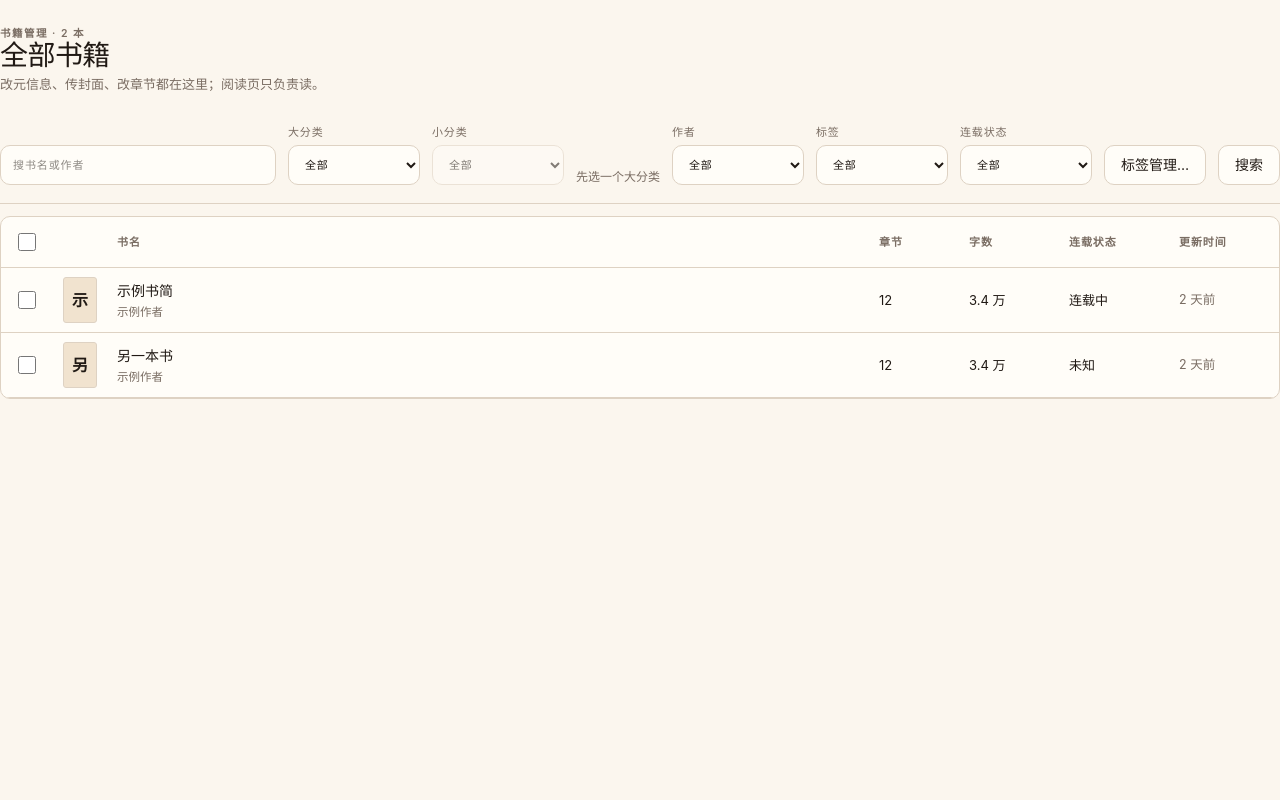
Scenario: 书籍管理列表 › 作者留空在本地就挡下，不打一次注定 400 的请求
The image size is (1280, 800).
Click the checkbox with test id "admin-book-pick-7": [27, 300] box x1=18 y1=292 x2=36 y2=310
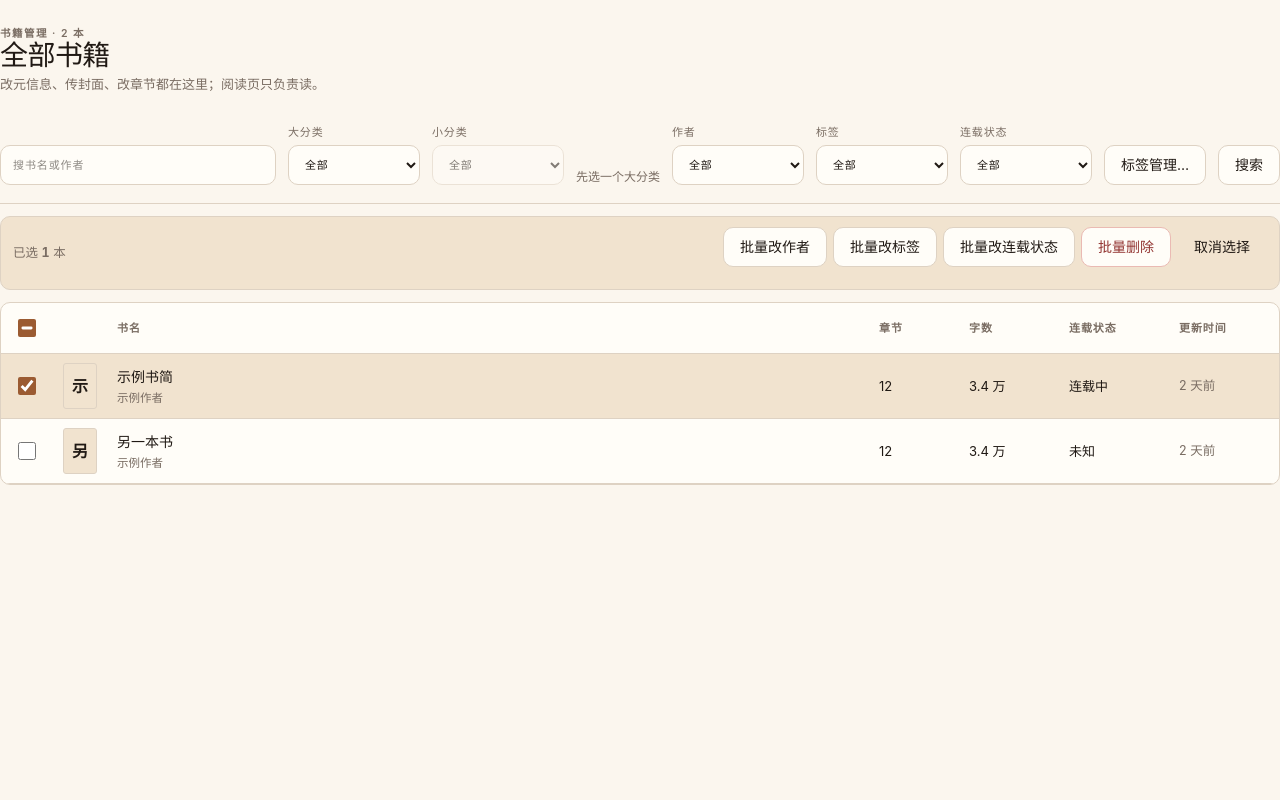
Click the button with test id "admin-batch-author": [775, 248] box x1=723 y1=228 x2=827 y2=268
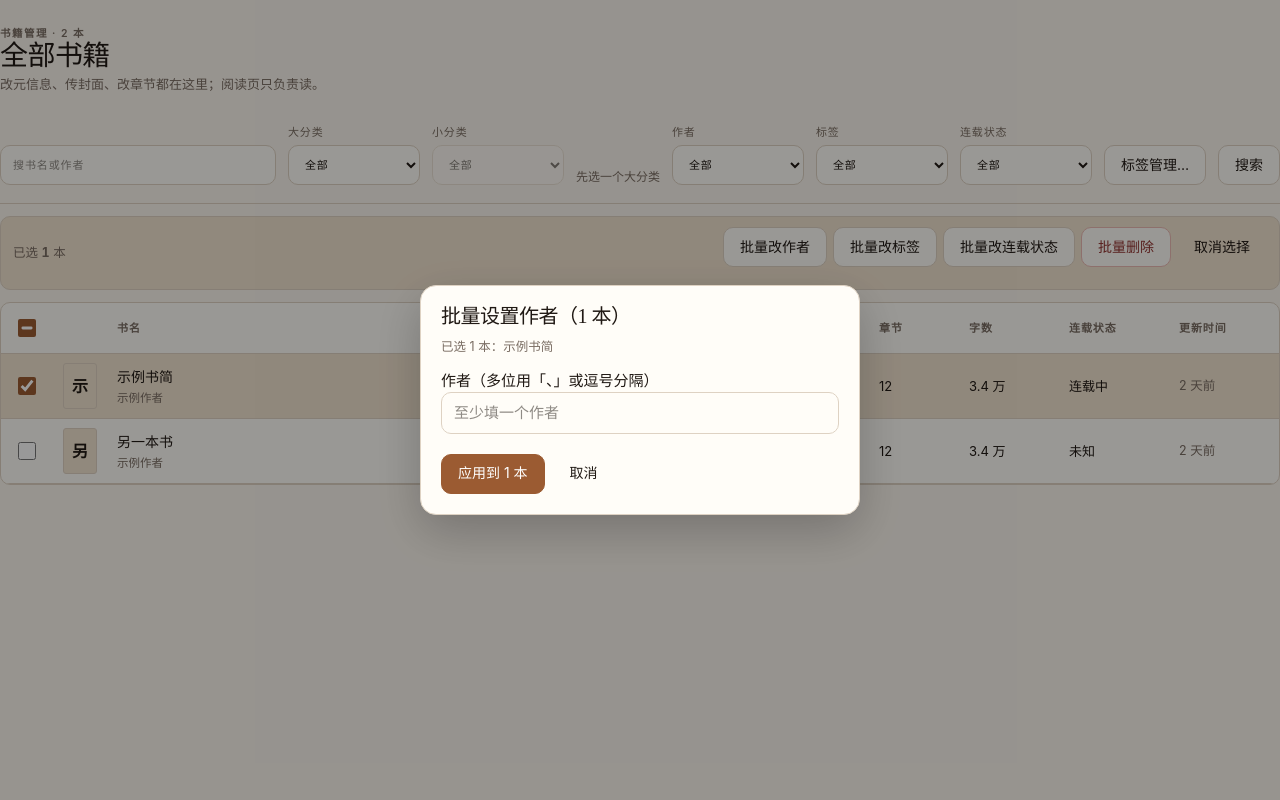
Click the button with test id "admin-batch-confirm": [493, 474] box x1=441 y1=454 x2=545 y2=494
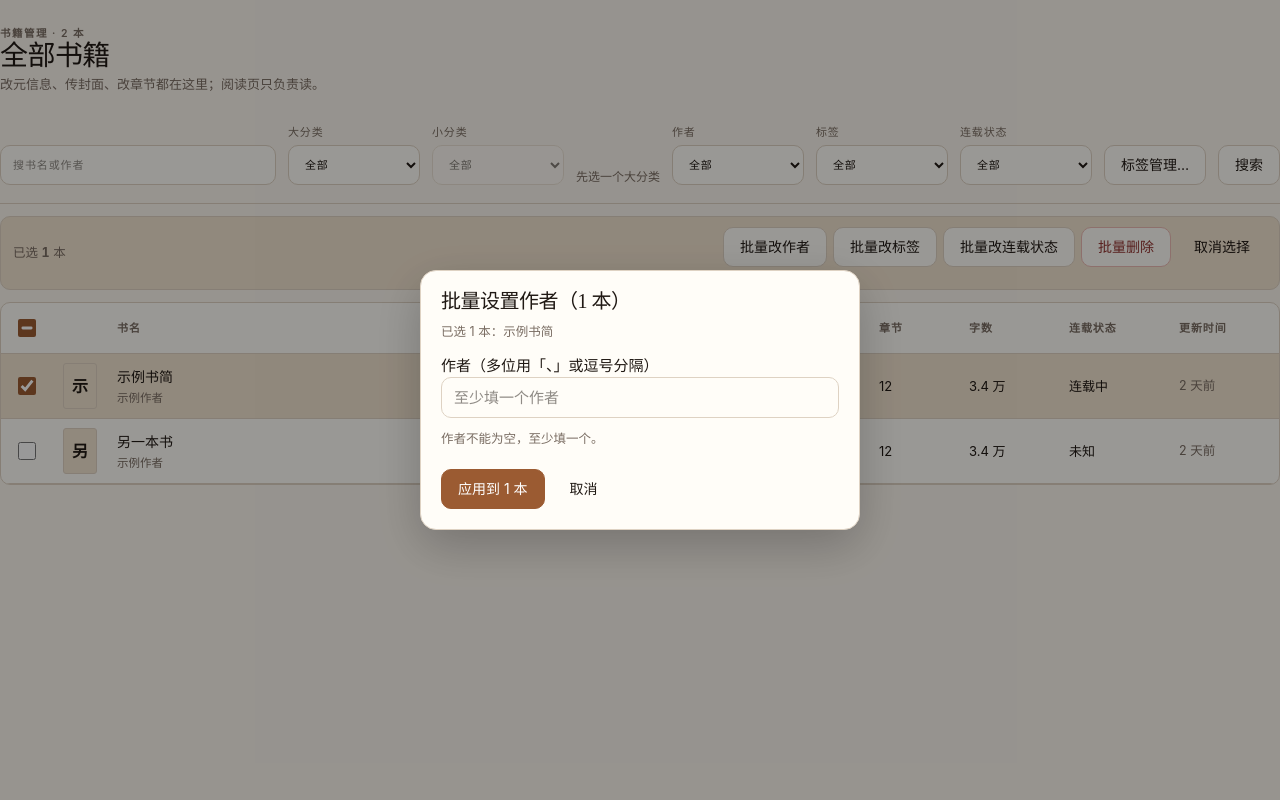
Now the message with test id "admin-batch-error" shows "作者不能为空", box x1=441 y1=431 x2=604 y2=446
